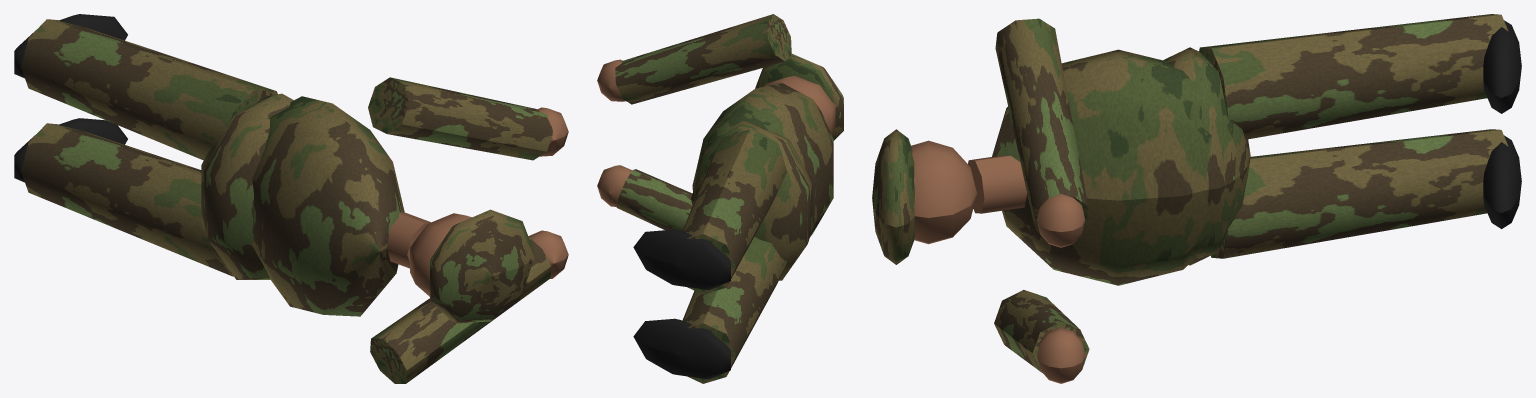
File: person_camo_crouch.obj
The picture shows the model from 3 angles, left to right: view 1: azimuth 30°, elevation 25°; view 2: azimuth 150°, elevation 25°; view 3: azimuth 270°, elevation 25°; orthographic projection. The views are drawn at different scales.
Size of the model in its own units: 0.7805 by 0.6388 by 1.12.
3 materials, 1 textured.
